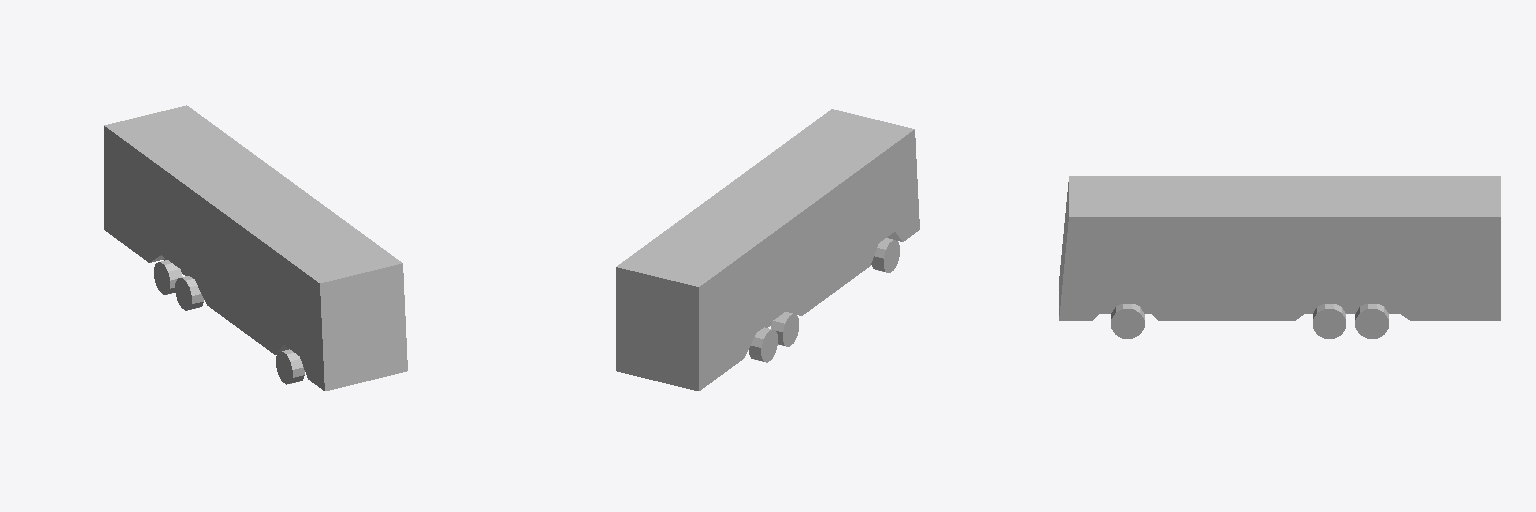
File: busAK.obj
3 renders of one model, left to right at view 1: azimuth 30°, elevation 25°; view 2: azimuth 150°, elevation 25°; view 3: azimuth 270°, elevation 25°, orthographic.
Parts seen in each view (by area): view 1: Cube; view 2: Cube; view 3: Cube.
Part boxes in pixels (x1,y1,x2,y2): Cube: (104, 105, 407, 390); Cube: (616, 109, 919, 390); Cube: (1059, 176, 1500, 338).
Size of the model in its own units: 2.3 by 2.75 by 9.21.